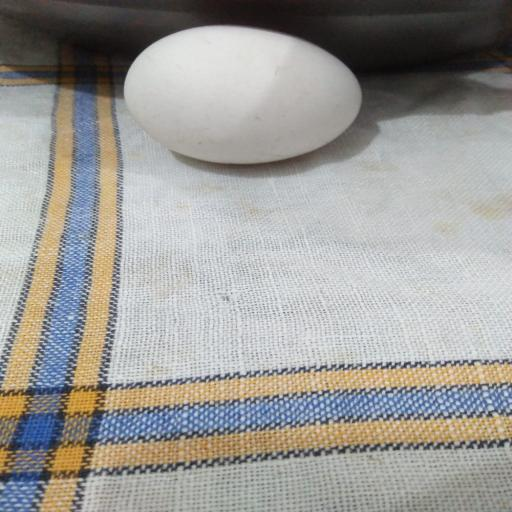telur: (118, 18, 373, 174)
